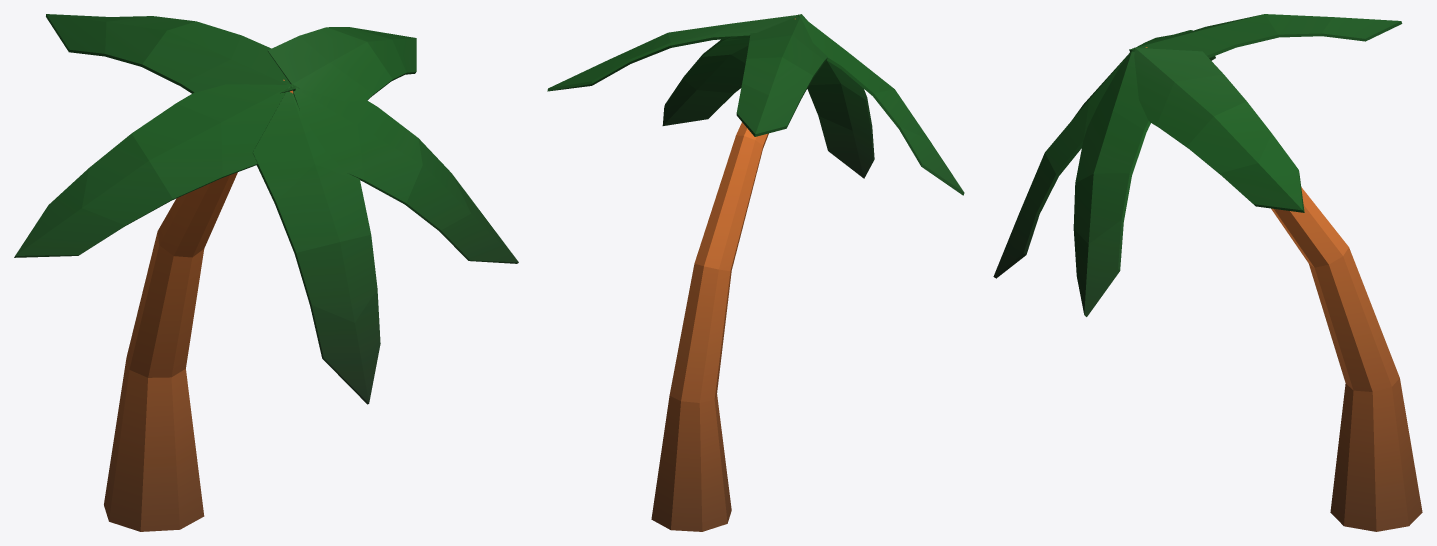
Rendered from Water_PalmTree.fbx.
3 views of the same model, side by side, from view 1: azimuth 30°, elevation 25°; view 2: azimuth 150°, elevation 25°; view 3: azimuth 270°, elevation 25° (orthographic). The views are drawn at different scales.
Parts seen in each view (by area): view 1: Tree; view 2: Tree; view 3: Tree.
Boxes of the visible parts, box(x1,y1,x2,y2) form: Tree: box(14, 14, 518, 531); Tree: box(547, 14, 964, 531); Tree: box(993, 14, 1422, 531).
Size of the model in its own units: 259 by 289 by 236.
Materials: 1 (1 with a texture image).
